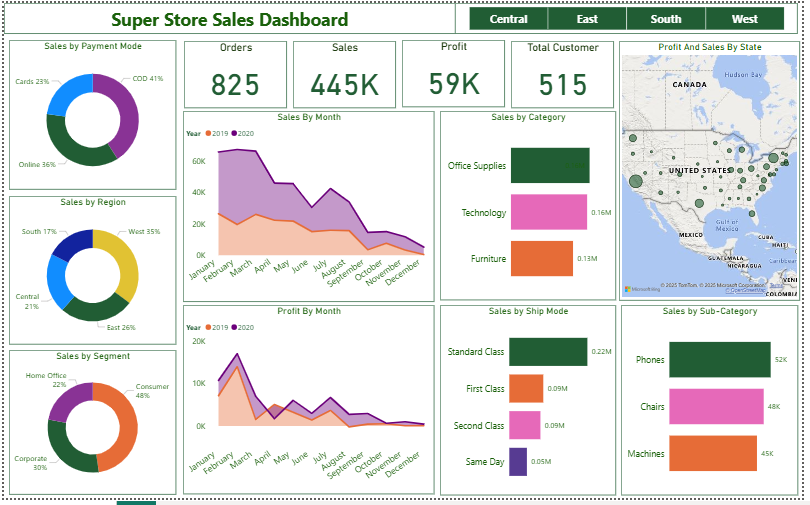

What the dashboard file says about the page in this screenshot:
{"tool":"powerbi","page":{"name":"Super Store Sales Dashboard","canvas":[1450,900],"ordinal":0},"visuals":[{"type":"clusteredBarChart","title":"Sales by Category","fields":{"Category":["SuperStore_Sales_Dataset.Category"],"Y":["Sum(SuperStore_Sales_Dataset.Sales)"]},"box":[792,196.2,320.4,343.8],"z":0},{"type":"textbox","box":[0,0,820.8,56.2],"z":1000},{"type":"clusteredBarChart","title":"Sales by Sub-Category","fields":{"Category":["SuperStore_Sales_Dataset.Sub-Category"],"Y":["Sum(SuperStore_Sales_Dataset.Sales)"]},"box":[1121.4,549,322.2,345.6],"z":2000},{"type":"clusteredBarChart","title":"Sales by Ship Mode","fields":{"Category":["SuperStore_Sales_Dataset.Ship Mode"],"Y":["Sum(SuperStore_Sales_Dataset.Sales)"]},"box":[792,549,320.4,345.6],"z":3000},{"type":"stackedAreaChart","title":"Sales By Month","fields":{"Y":["Sum(SuperStore_Sales_Dataset.Sales)"],"Category":["SuperStore_Sales_Dataset.Order Date.Variation.Date Hierarchy.Month","SuperStore_Sales_Dataset.Order Date.Variation.Date Hierarchy.Day"],"Series":["SuperStore_Sales_Dataset.Order Date.Variation.Date Hierarchy.Year"]},"box":[325.8,196.2,457.2,347.4],"z":4000},{"type":"stackedAreaChart","title":"Profit By Month","fields":{"Category":["SuperStore_Sales_Dataset.Order Date.Variation.Date Hierarchy.Month","SuperStore_Sales_Dataset.Order Date.Variation.Date Hierarchy.Day"],"Series":["SuperStore_Sales_Dataset.Order Date.Variation.Date Hierarchy.Year"],"Y":["Sum(SuperStore_Sales_Dataset.Profit)"]},"box":[325.8,549,457.2,343.8],"z":5000},{"type":"map","title":"Profit And Sales By State","fields":{"Category":["SuperStore_Sales_Dataset.State"],"Size":["Sum(SuperStore_Sales_Dataset.Sales)"]},"box":[1117.8,68.4,329.4,471.6],"z":6000},{"type":"donutChart","title":"Sales by Segment","fields":{"Category":["SuperStore_Sales_Dataset.Segment"],"Y":["Sum(SuperStore_Sales_Dataset.Sales)"]},"box":[9,631.8,304.2,262.8],"z":7000},{"type":"donutChart","title":"Sales by Payment Mode","fields":{"Category":["SuperStore_Sales_Dataset.Payment Mode"],"Y":["Sum(SuperStore_Sales_Dataset.Sales)"]},"box":[9,66.6,304.2,271.8],"z":8000},{"type":"donutChart","title":"Sales by Region","fields":{"Category":["SuperStore_Sales_Dataset.Region"],"Y":["Sum(SuperStore_Sales_Dataset.Sales)"]},"box":[9,351,304.2,270],"z":9000},{"type":"card","title":"Orders","fields":{"Values":["Count(SuperStore_Sales_Dataset.Order ID)"]},"box":[327.6,68.4,187.2,122.4],"z":10000},{"type":"slicer","fields":{"Values":["SuperStore_Sales_Dataset.Region"]},"box":[820.8,0,622.8,55.8],"z":11000},{"type":"card","title":"Sales","fields":{"Values":["Sum(SuperStore_Sales_Dataset.Sales)"]},"box":[525.6,68.4,187.2,122.4],"z":12000},{"type":"card","title":"Profit","fields":{"Values":["Sum(SuperStore_Sales_Dataset.Profit)"]},"box":[723.6,66.6,187.2,122.4],"z":13000},{"type":"card","title":"Total Customer","fields":{"Values":["Count(SuperStore_Sales_Dataset.Customer ID)"]},"box":[921.6,68.4,187.2,122.4],"z":14000}]}

Visuals, with their boxes in screenshot pixels (x1, y1, x2, y2), scaled from the page's 1450x900 canvas onto the 810x505 screenshot:
"Sales by Category" clusteredBarChart: <bbox>442, 110, 621, 303</bbox>
textbox: <bbox>0, 0, 459, 32</bbox>
"Sales by Sub-Category" clusteredBarChart: <bbox>626, 308, 806, 502</bbox>
"Sales by Ship Mode" clusteredBarChart: <bbox>442, 308, 621, 502</bbox>
"Sales By Month" stackedAreaChart: <bbox>182, 110, 437, 305</bbox>
"Profit By Month" stackedAreaChart: <bbox>182, 308, 437, 501</bbox>
"Profit And Sales By State" map: <bbox>624, 38, 808, 303</bbox>
"Sales by Segment" donutChart: <bbox>5, 355, 175, 502</bbox>
"Sales by Payment Mode" donutChart: <bbox>5, 37, 175, 190</bbox>
"Sales by Region" donutChart: <bbox>5, 197, 175, 348</bbox>
"Orders" card: <bbox>183, 38, 288, 107</bbox>
slicer - SuperStore_Sales_Dataset.Region: <bbox>459, 0, 806, 31</bbox>
"Sales" card: <bbox>294, 38, 398, 107</bbox>
"Profit" card: <bbox>404, 37, 509, 106</bbox>
"Total Customer" card: <bbox>515, 38, 619, 107</bbox>
